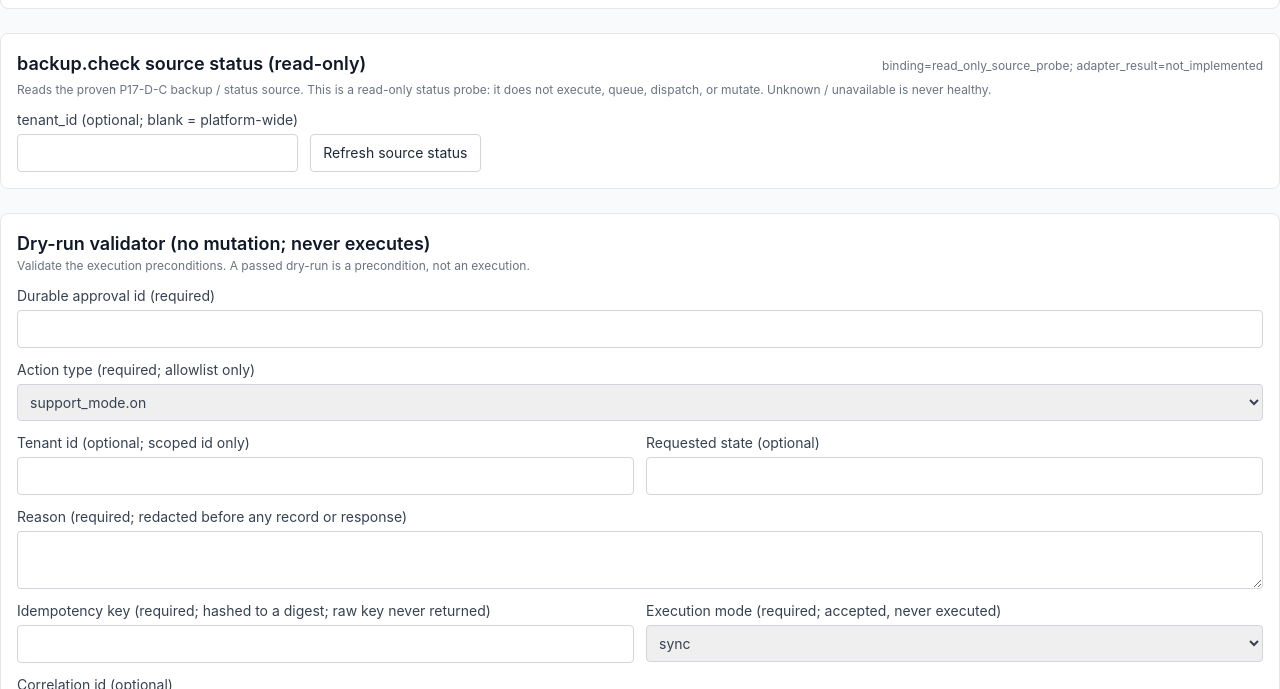
PlatformControlledExecutionConsolePage › P22-P14: editing the idempotency key after a passed dry-run forces a fresh dry-run
The width and height of the screenshot is (1280, 689).
(page scrolled)
Type "appr-1" into the field with test id "p22-approval-input" at (640, 329), box x1=17 y1=310 x2=1263 y2=348
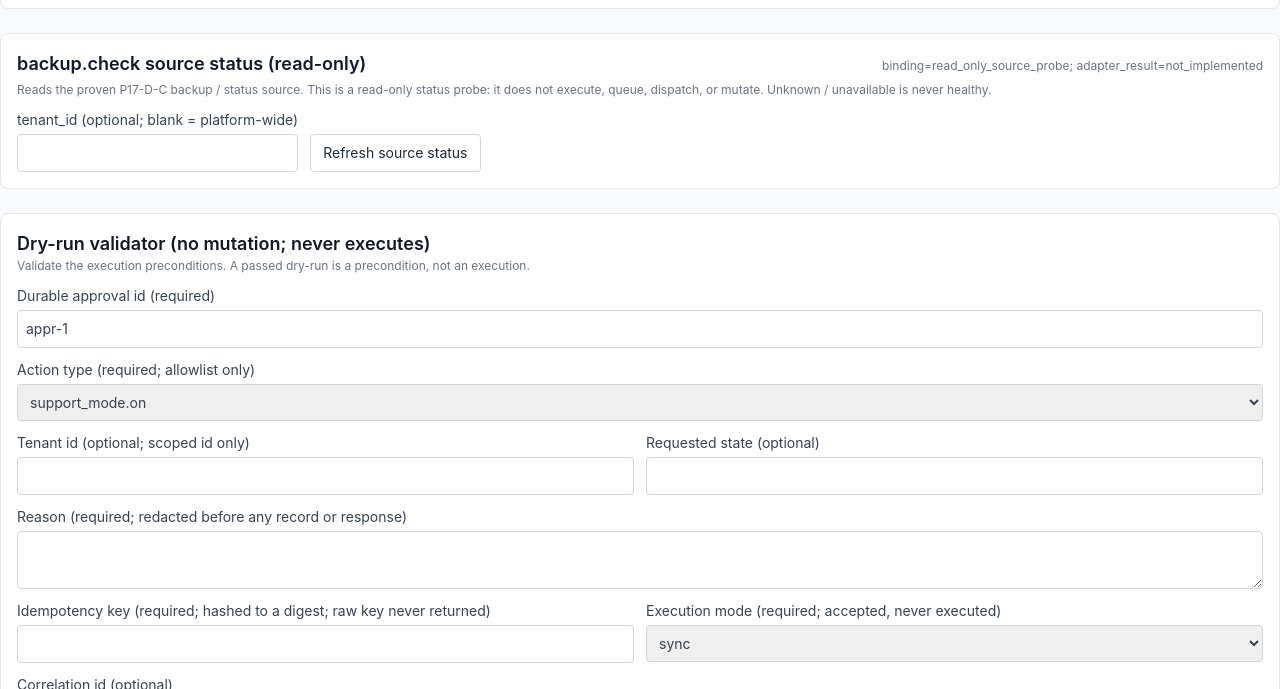
Type "routine review" into the text box with test id "p22-reason-input" at (640, 560), box x1=17 y1=531 x2=1263 y2=589
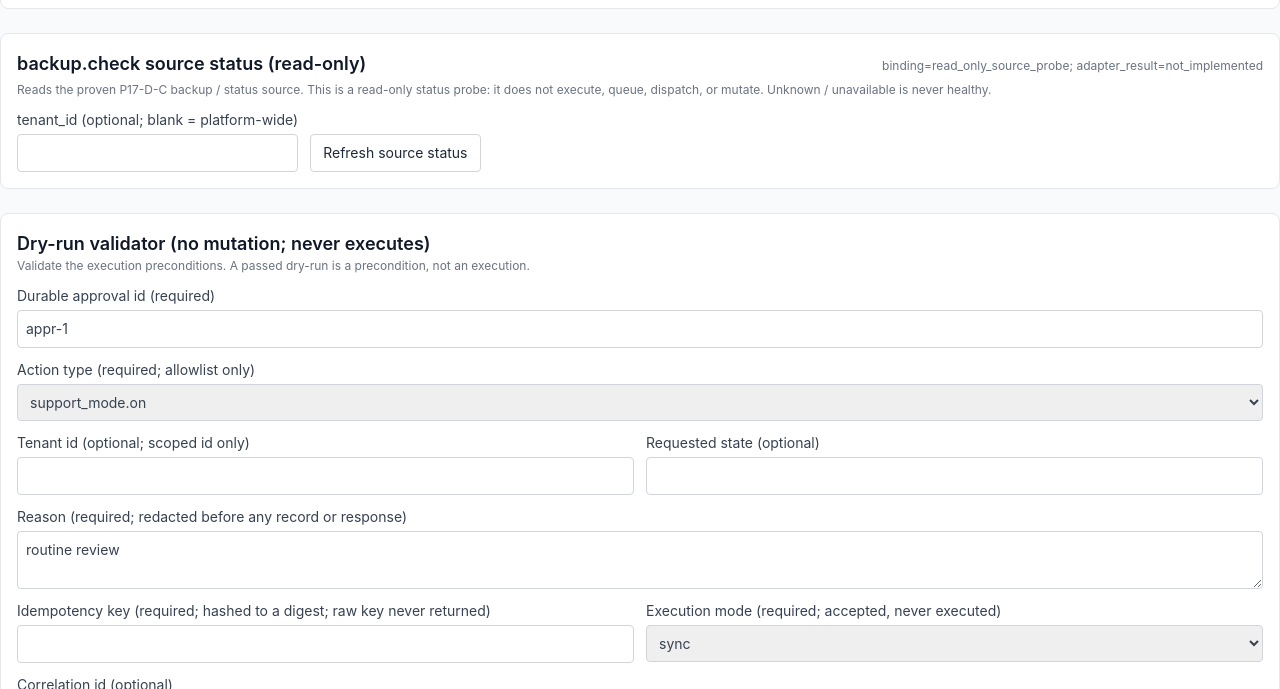
Type "RAW-SECRET-KEY-XYZ" into the field with test id "p22-idempotency-input" at (326, 644), box x1=17 y1=625 x2=634 y2=663
(page scrolled)
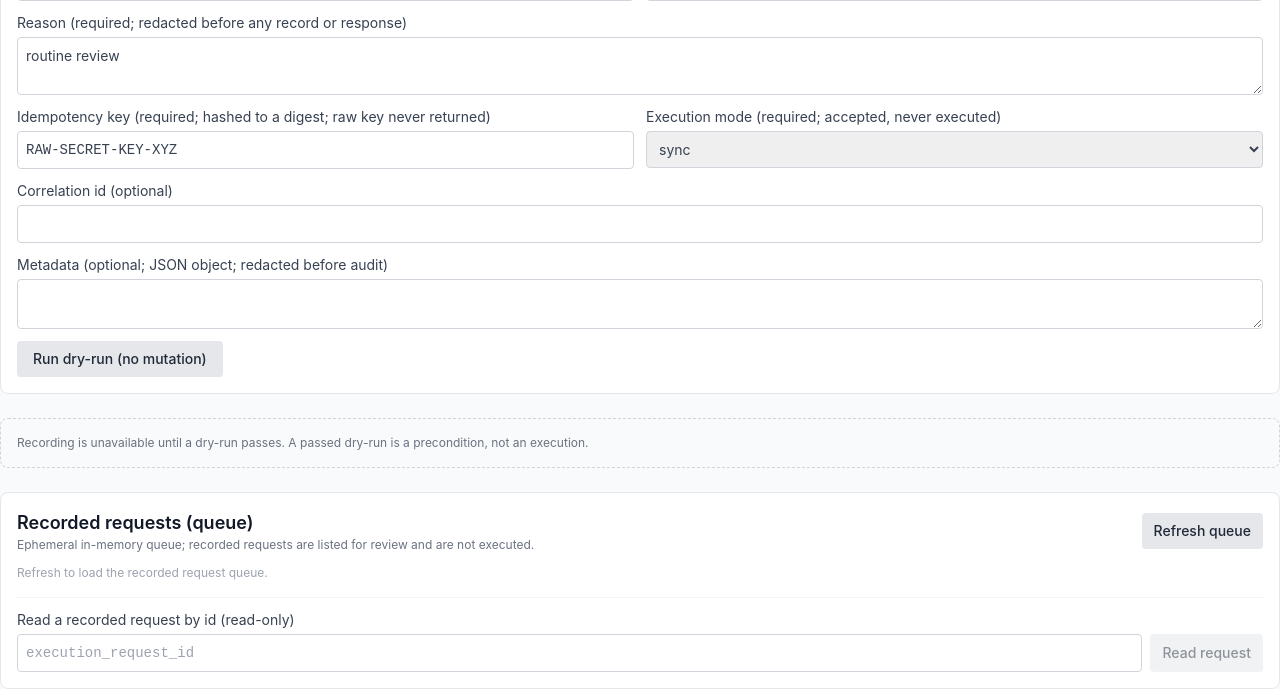
Click the button with test id "p22-dry-run-btn" at (120, 359), box x1=17 y1=341 x2=223 y2=377
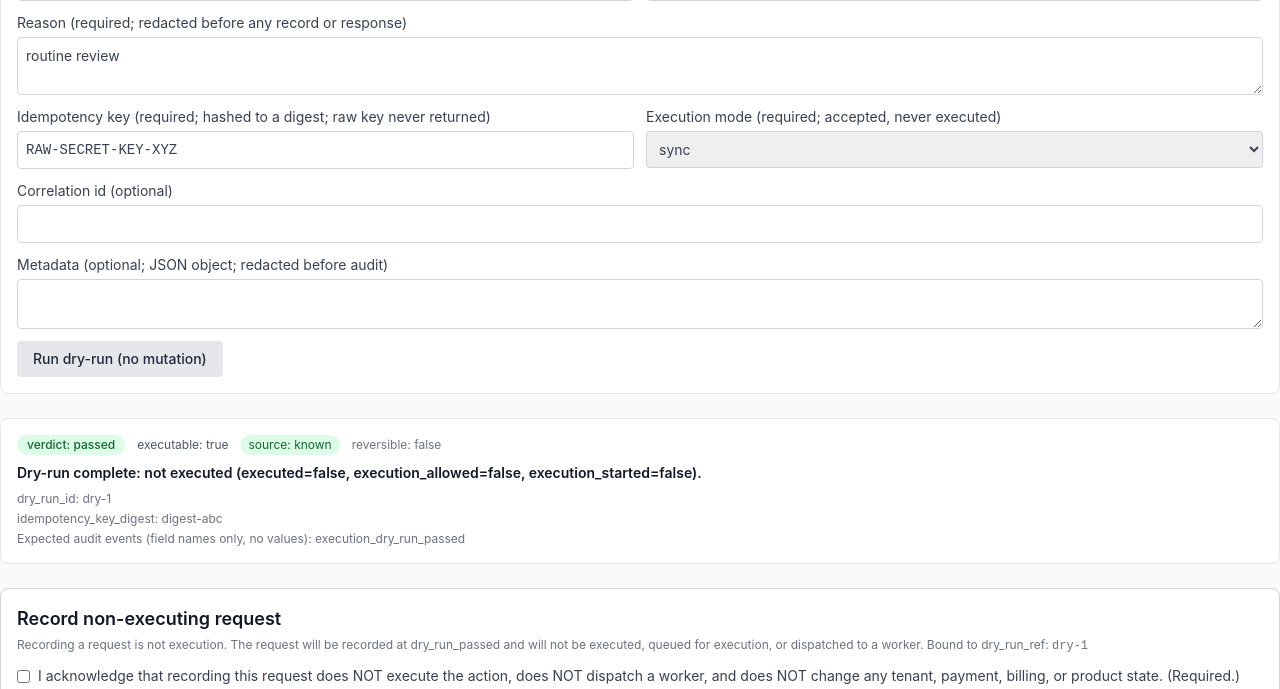
Click the checkbox with test id "p22-ack-input" at (24, 676), box x1=17 y1=670 x2=30 y2=683
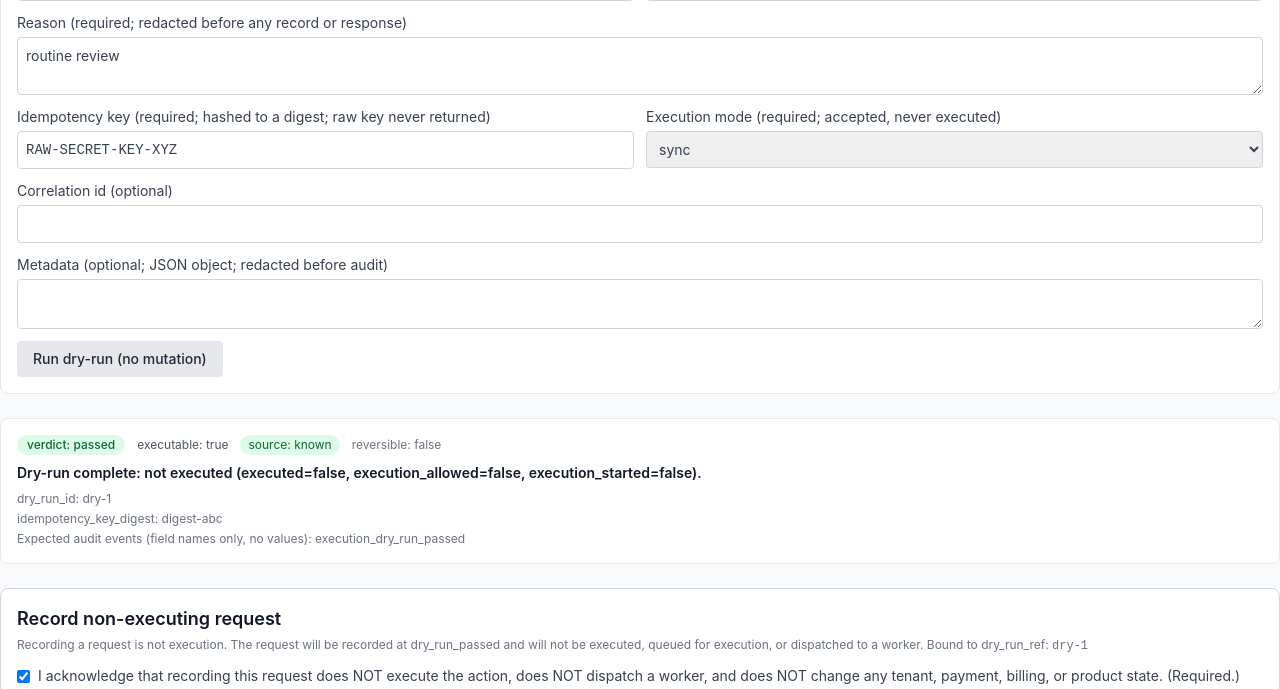
Replace the text in the field with test id "p22-idempotency-input" with "DIFFERENT-RAW-KEY-456" at (326, 150), box x1=17 y1=131 x2=634 y2=169
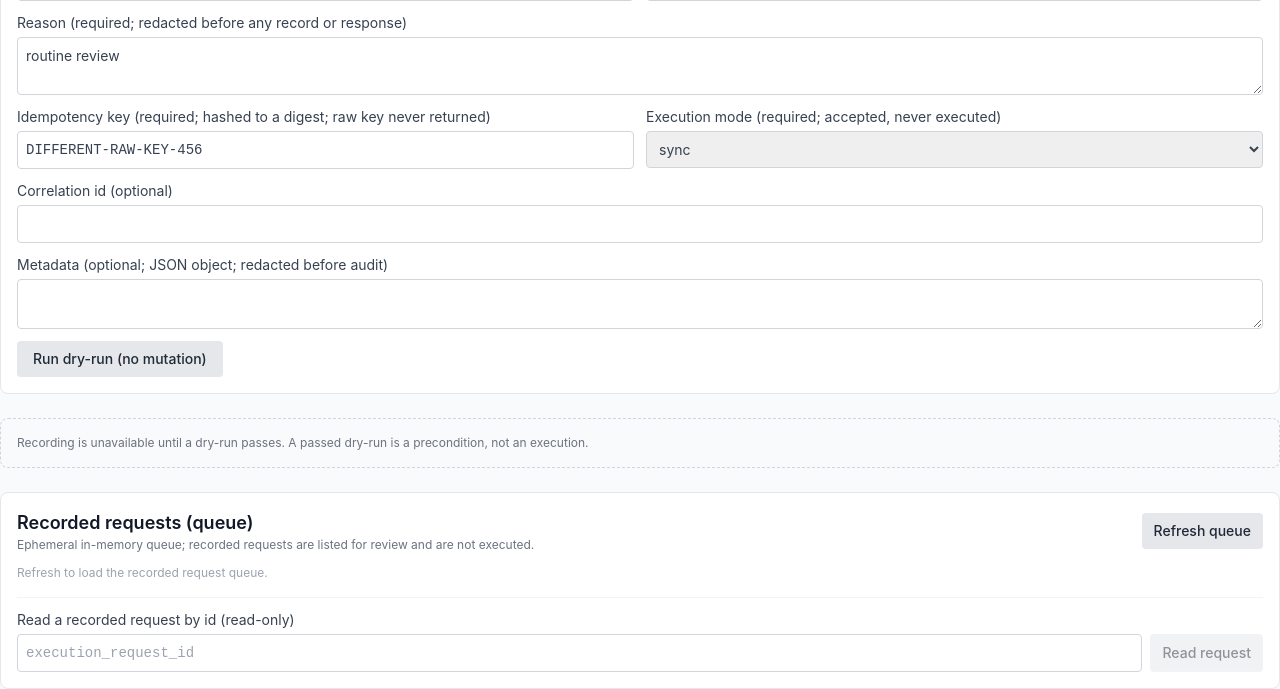
Expected: the checkbox with test id "p22-ack-input" is gone
Expected: the element with test id "p22-record-disabled" is shown, x1=0 y1=418 x2=1279 y2=468
